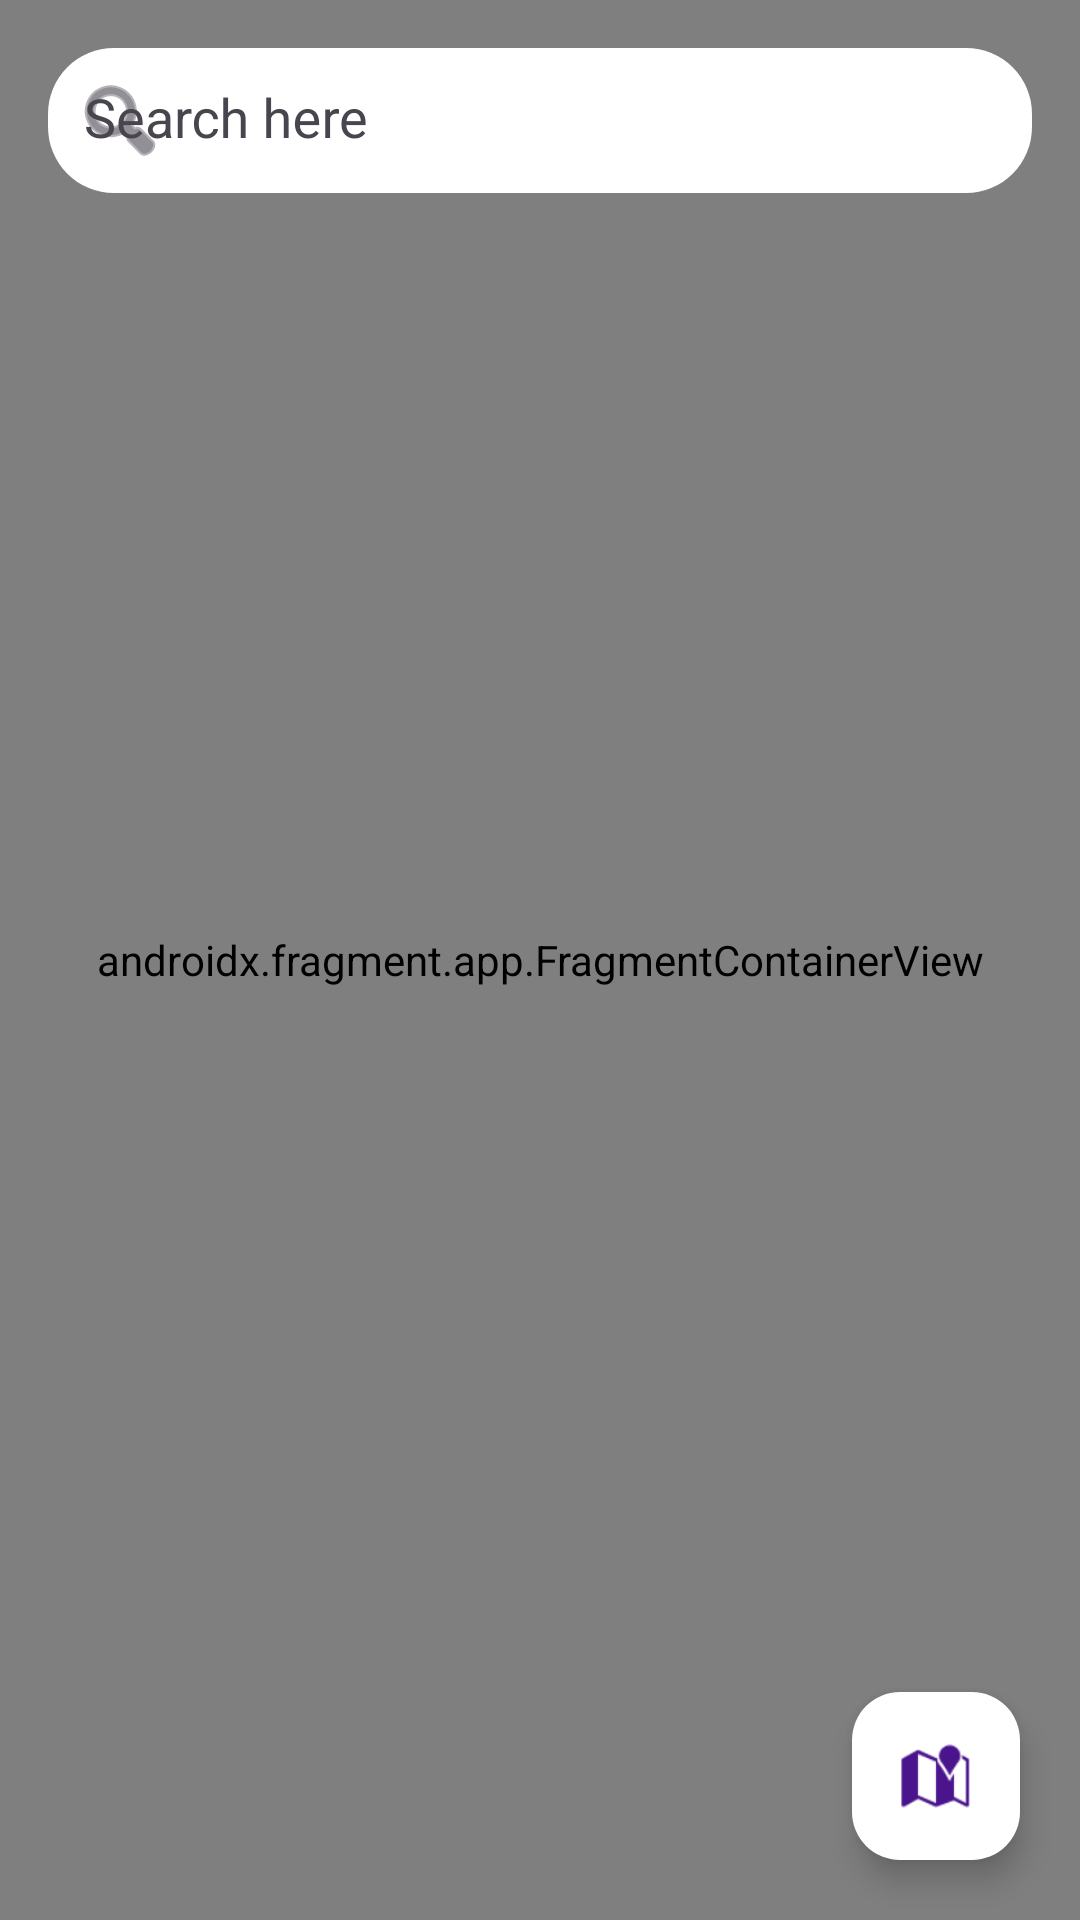

Icon bounding boxes for this 1080x1920 phone screenshot, format [x1=x1, y1=y1, x2=x2, y2=y2]:
Route: [x1=852, y1=1692, x2=1020, y2=1860]
